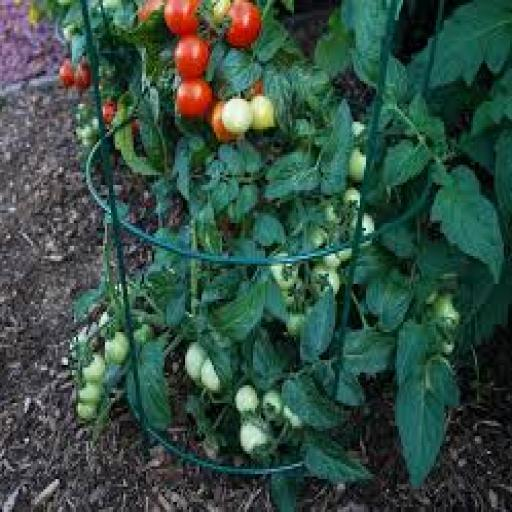tomato: (227, 0, 261, 48), (177, 79, 213, 119), (175, 36, 209, 78), (165, 0, 199, 35), (241, 419, 271, 453), (223, 99, 252, 134), (210, 102, 236, 141), (432, 295, 460, 329), (251, 94, 275, 131), (313, 264, 341, 294), (186, 343, 207, 382), (200, 358, 222, 392), (105, 333, 129, 364), (235, 386, 259, 415), (282, 279, 304, 309), (272, 264, 298, 288), (138, 0, 164, 22), (83, 355, 104, 382), (262, 391, 283, 418), (350, 148, 366, 182), (323, 249, 351, 268), (75, 61, 92, 91), (79, 383, 102, 405), (282, 406, 304, 428), (212, 0, 230, 25), (286, 315, 306, 337), (60, 59, 74, 88), (134, 325, 154, 344), (309, 226, 326, 248), (323, 203, 341, 223), (103, 99, 117, 124), (62, 23, 78, 43), (362, 213, 376, 235), (77, 404, 96, 420), (247, 79, 263, 98), (344, 188, 359, 207), (323, 254, 341, 268), (352, 122, 366, 139), (99, 310, 111, 329), (103, 0, 121, 10), (132, 120, 139, 136)
